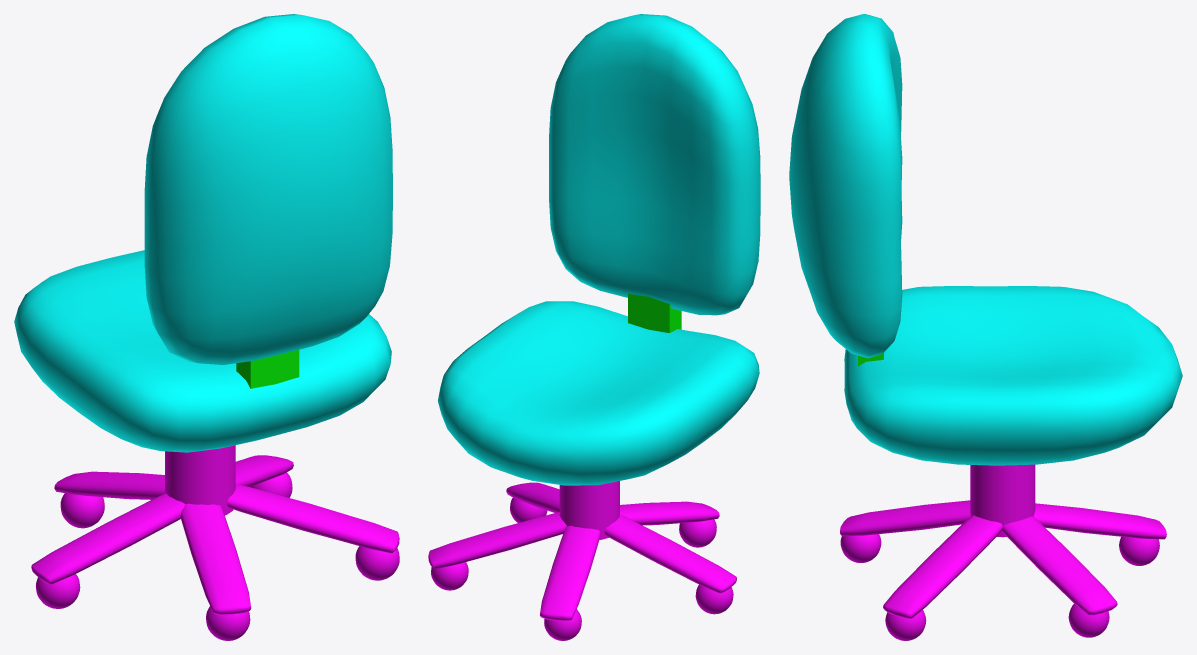
Rendered from dormchair.fbx.
3 renders of one model, left to right at view 1: azimuth 30°, elevation 25°; view 2: azimuth 150°, elevation 25°; view 3: azimuth 270°, elevation 25°, orthographic. The views are drawn at different scales.
Parts seen in each view (by area): view 1: pCube14, pCylinder2; view 2: pCube14, pCylinder2; view 3: pCube14, pCylinder2.
Part boxes in pixels (bbox=[...]): pCube14: bbox=[14, 14, 392, 452]; pCylinder2: bbox=[31, 445, 399, 640]; pCube14: bbox=[438, 14, 760, 485]; pCylinder2: bbox=[428, 481, 736, 640]; pCube14: bbox=[789, 14, 1182, 465]; pCylinder2: bbox=[840, 464, 1166, 640].
Bounding box in the file's own units: 2.31 × 4.32 × 2.76.
